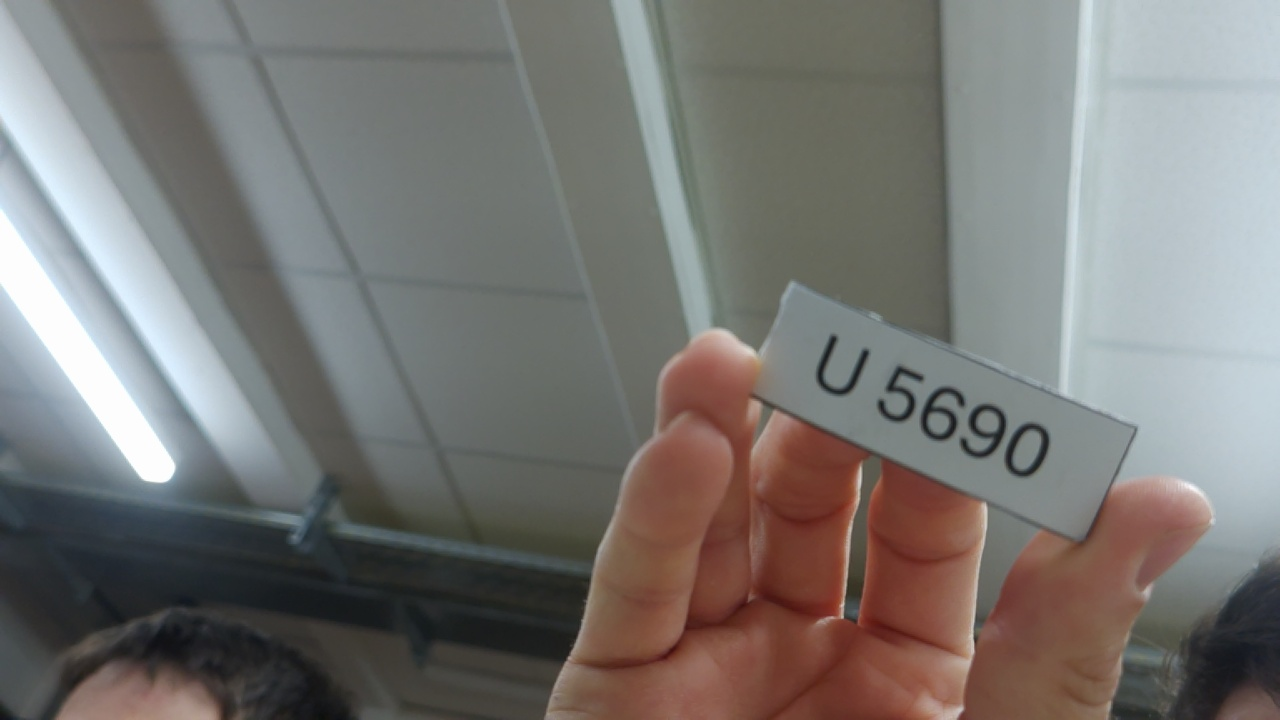license_plate: (729, 275, 1147, 553)
